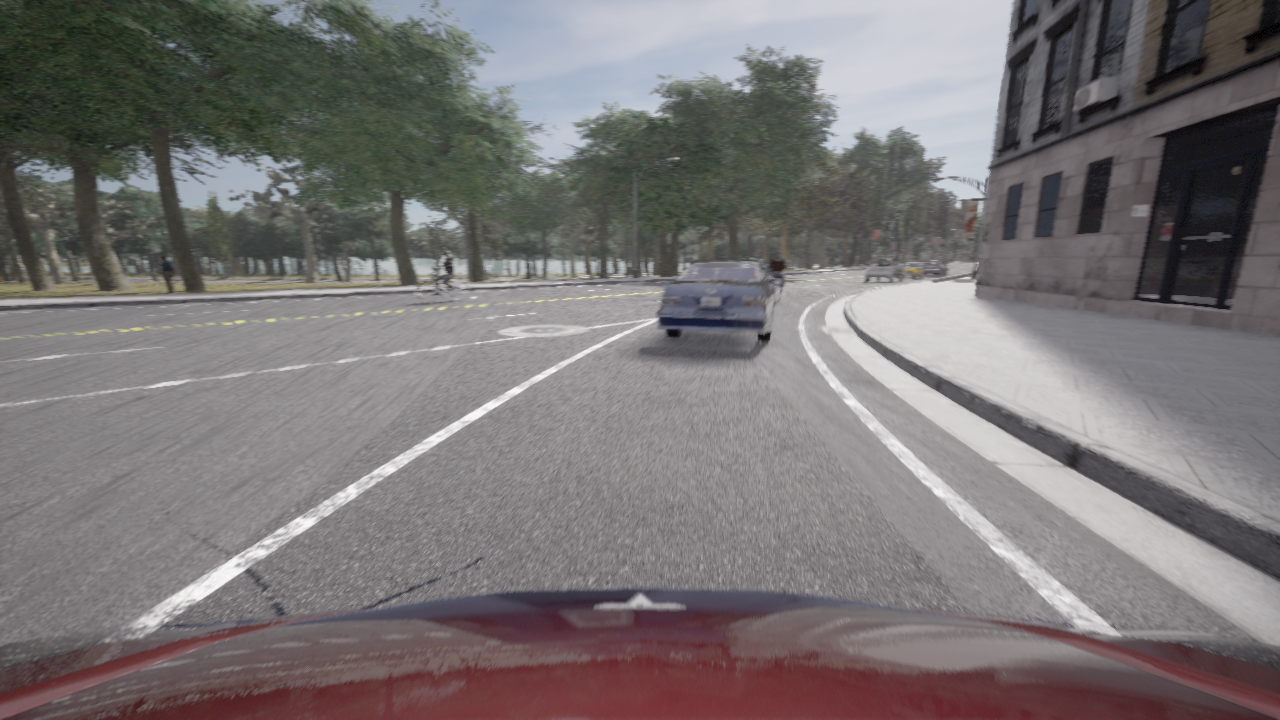cyclist: (0, 588, 1279, 719), (657, 258, 780, 341), (417, 268, 468, 303), (865, 258, 904, 282), (921, 261, 946, 275), (903, 262, 923, 278), (759, 260, 771, 278), (773, 285, 781, 299)
pedestrian: (160, 255, 173, 293)
